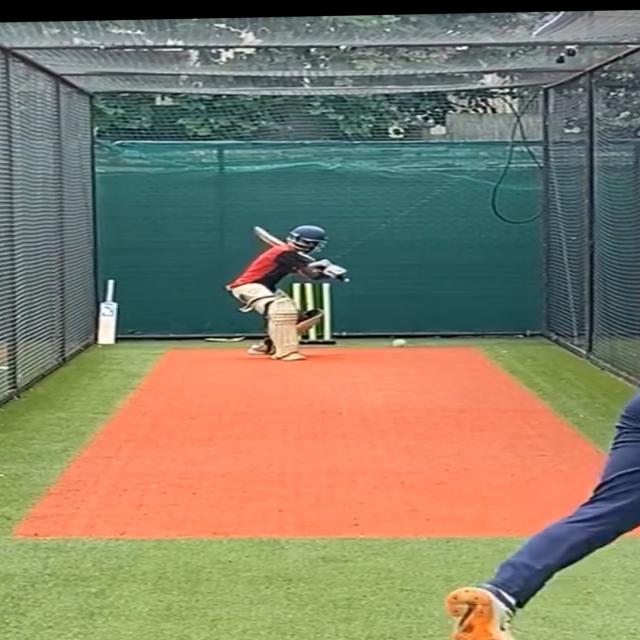ball: (386, 336, 411, 350)
stump: (288, 280, 338, 345)
